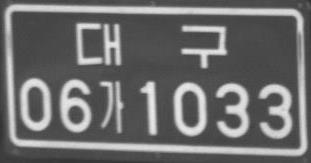0: (172, 81, 207, 137), (19, 76, 53, 131)
1: (134, 80, 166, 135)
3: (257, 82, 293, 140), (214, 82, 250, 138)
6: (59, 78, 92, 133)
가: (99, 79, 123, 134)
대구_D: (75, 21, 228, 68)
